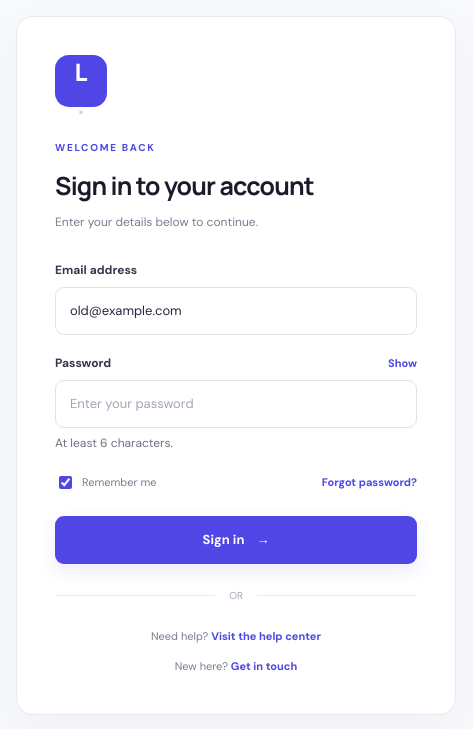
Login page › forgets a stored email when remember me is unchecked
The image size is (473, 729).
Step 1. Type "secret123" into the password field labelled "Password" → (236, 404), box x1=55 y1=380 x2=417 y2=428
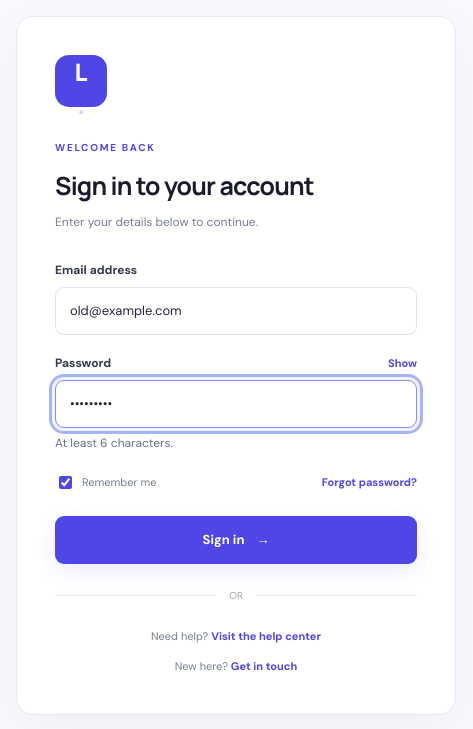
Step 2. Click the checkbox labelled "Remember me" → (66, 482), box x1=59 y1=476 x2=72 y2=489
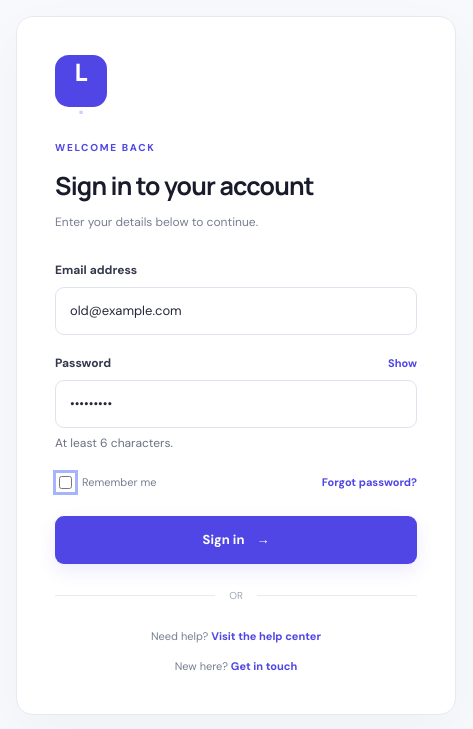
Step 3. Click the button "Sign in →" → (236, 540), box x1=55 y1=516 x2=417 y2=564
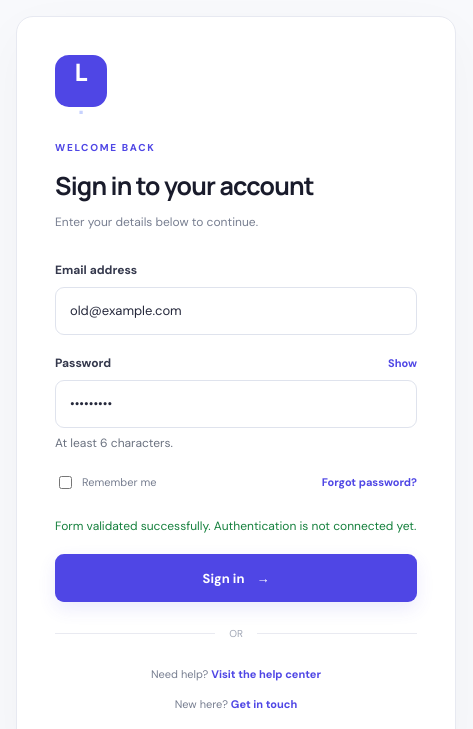
Result: the text "Form validated successfully. Authentication is not connected yet." is shown at x1=55 y1=516 x2=417 y2=536
